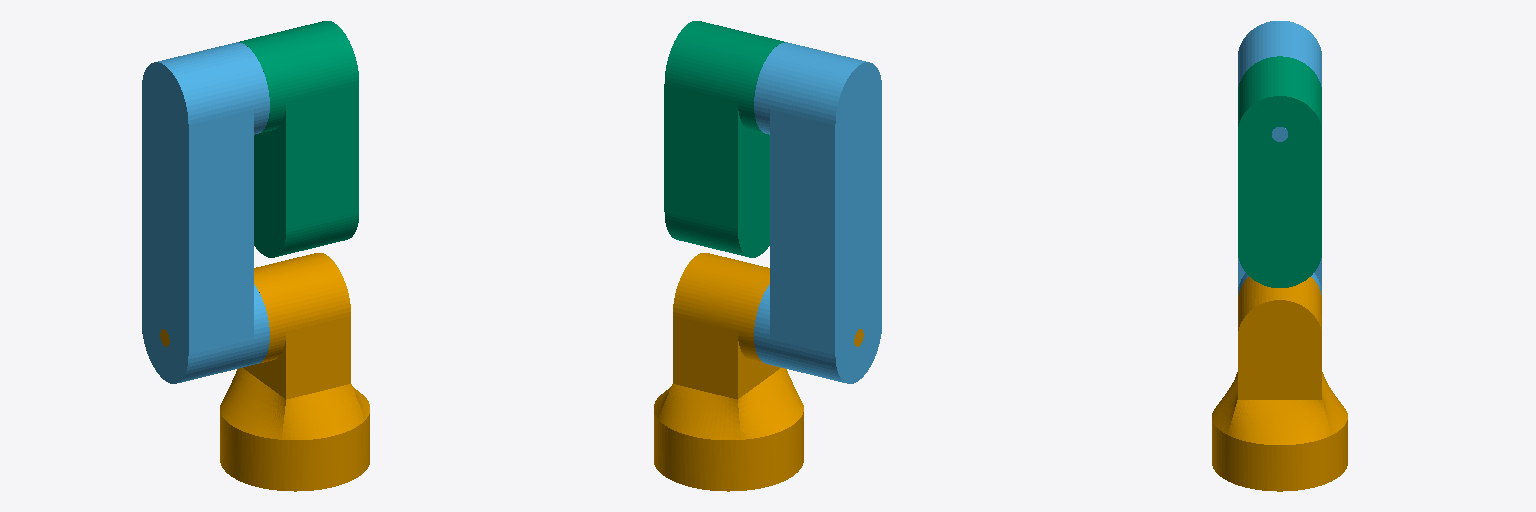
URDF robot description (protoarm):
<?xml version='1.0' encoding='utf-8'?>
<robot name="protoarm">

  <gazebo>
    <plugin name='ArduPilotPlugin' filename='ArduPilotPlugin'>
      <fdm_addr>127.0.0.1</fdm_addr>
      <fdm_port_in>9002</fdm_port_in>
      <fdm_port_out>9003</fdm_port_out>
      <modelXYZToOnboardXYZ>0 0 0 0 0 0</modelXYZToOnboardXYZ>
      <imuName>base_link_imu</imuName>
      
      <control channel="0">
        <type>JOINT</type>
        <offset>0</offset>
        <p_gain>10</p_gain>
        <i_gain>0</i_gain>
        <d_gain>0.01</d_gain>
        <joint_name>base_link_shoulder_joint</joint_name>
      </control>

      <control channel="1">
        <type>JOINT</type>
        <offset>0</offset>
        <p_gain>10</p_gain>
        <i_gain>0</i_gain>
        <d_gain>0.01</d_gain>
        <joint_name>forearm_link_elbow_joint</joint_name>
      </control>
    </plugin>
  </gazebo>

  <link name="base_link">
    <inertial>
      <origin xyz="-0.0019526646287648323 -8.278773829914266e-12 -0.004233476087532333" rpy="0.0 0.0 0.0" />
      <mass value="2.84167487988602" />
      <inertia ixx="0.0038782857507128543" iyy="0.0039652014944543115" izz="0.0017759750573409295" ixy="-5.606711282794287e-08" iyz="5.701088101719755e-13" ixz="0.0002454443940660167" />
    </inertial>
    <visual name="base_link_visual">
      <origin xyz="0.0 0.0 0.0" rpy="0.0 0.0 0.0" />
      <geometry>
        <mesh filename="meshes/base_link.stl" scale="0.001 0.001 0.001" />
      </geometry>
    </visual>
    <collision name="base_link_collision">
      <origin xyz="0.0 0.0 0.0" rpy="0.0 0.0 0.0" />
      <geometry>
        <mesh filename="meshes/base_link.stl" scale="0.001 0.001 0.001" />
      </geometry>
    </collision>
  </link>

  <gazebo reference="base_link">
    <sensor name="base_link_imu" type="imu">
      <always_on>true</always_on>
      <update_rate>100</update_rate>
      <visualize>true</visualize>
      <imu/> </sensor>
  </gazebo>

  <link name="forearm_link">
    <inertial>
      <origin xyz="0.06893391917548526 0.0 0.0018817945295309536" rpy="0.0 -0.0 0.0" />
      <mass value="3.0473890307041054" />
      <inertia ixx="0.0012299628702355965" iyy="0.00911194458183235" izz="0.009054147226100345" ixy="0.0" iyz="-7.139533408917487e-19" ixz="0.00012838991892867926" />
    </inertial>
    <visual name="forearm_link_visual">
      <origin xyz="-0.04 0.0 -0.055" rpy="-0.0 1.5707963267948966 0" />
      <geometry>
        <mesh filename="meshes/forearm_link.stl" scale="0.001 0.001 0.001" />
      </geometry>
    </visual>
    <collision name="forearm_link_collision">
      <origin xyz="-0.04 0.0 -0.055" rpy="-0.0 1.5707963267948966 0" />
      <geometry>
        <mesh filename="meshes/forearm_link.stl" scale="0.001 0.001 0.001" />
      </geometry>
    </collision>
  </link>

  <link name="arm_link">
    <inertial>
      <origin xyz="-0.03539179570109555 0.0 0.0030972104789375055" rpy="0.0 -0.0 0.0" />
      <mass value="2.1385170769124358" />
      <inertia ixx="0.0008495207643550283" iyy="0.0028813877416193623" izz="0.002848314714760873" ixy="0.0" iyz="0.0" ixz="0.0001440144506079694" />
    </inertial>
    <visual name="arm_link_visual">
      <origin xyz="-0.17500000000000002 0.0 0.0025" rpy="-3.141592653589793 -1.5707963267948966 0" />
      <geometry>
        <mesh filename="meshes/arm_link.stl" scale="0.001 0.001 0.001" />
      </geometry>
    </visual>
    <collision name="arm_link_collision">
      <origin xyz="-0.17500000000000002 0.0 0.0025" rpy="-3.141592653589793 -1.5707963267948966 0" />
      <geometry>
        <mesh filename="meshes/arm_link.stl" scale="0.001 0.001 0.001" />
      </geometry>
    </collision>
  </link>

  <joint name="base_link_shoulder_joint" type="revolute">
    <origin xyz="-0.055 0.0 0.04" rpy="-0.0 -1.5707963267948966 0" />
    <parent link="base_link" />
    <child link="forearm_link" />
    <axis xyz="0.0 0.0 1.0" />
    <limit lower="-1.570796" upper="1.570796" effort="1000000" velocity="1000000" />
  </joint>

  <joint name="forearm_link_elbow_joint" type="revolute">
    <origin xyz="0.135 0.0 -0.0525" rpy="3.141592653589793 -0.0 0.0" />
    <parent link="forearm_link" />
    <child link="arm_link" />
    <axis xyz="0.0 0.0 1.0" />
    <limit lower="0.0" upper="3.141593" effort="1000000" velocity="1000000" />
  </joint>

</robot>

--- Render facts (derived) ---
3 views of the same robot in one strip: view 1: azimuth 30°, elevation 25°; view 2: azimuth 150°, elevation 25°; view 3: azimuth 270°, elevation 25° (orthographic).
Robot: protoarm — 3 links, 2 joints (2 revolute); root link base_link; default pose: every joint at zero.
Visible links, largest first — view 1: forearm_link, base_link, arm_link; view 2: forearm_link, base_link, arm_link; view 3: base_link, arm_link, forearm_link.
Boxes of the visible links, x1=… form: forearm_link: x1=142, y1=42, x2=269, y2=383; base_link: x1=160, y1=253, x2=369, y2=491; arm_link: x1=239, y1=21, x2=358, y2=257; forearm_link: x1=754, y1=42, x2=881, y2=383; base_link: x1=654, y1=253, x2=863, y2=491; arm_link: x1=664, y1=21, x2=784, y2=257; base_link: x1=1212, y1=277, x2=1347, y2=491; arm_link: x1=1238, y1=56, x2=1321, y2=287; forearm_link: x1=1238, y1=21, x2=1321, y2=294.
Bounding box of the posed robot: 0.12 × 0.08 × 0.25 m (x, y, z).
3 mesh visuals loaded from 3 distinct referenced files (3 binary STL).
